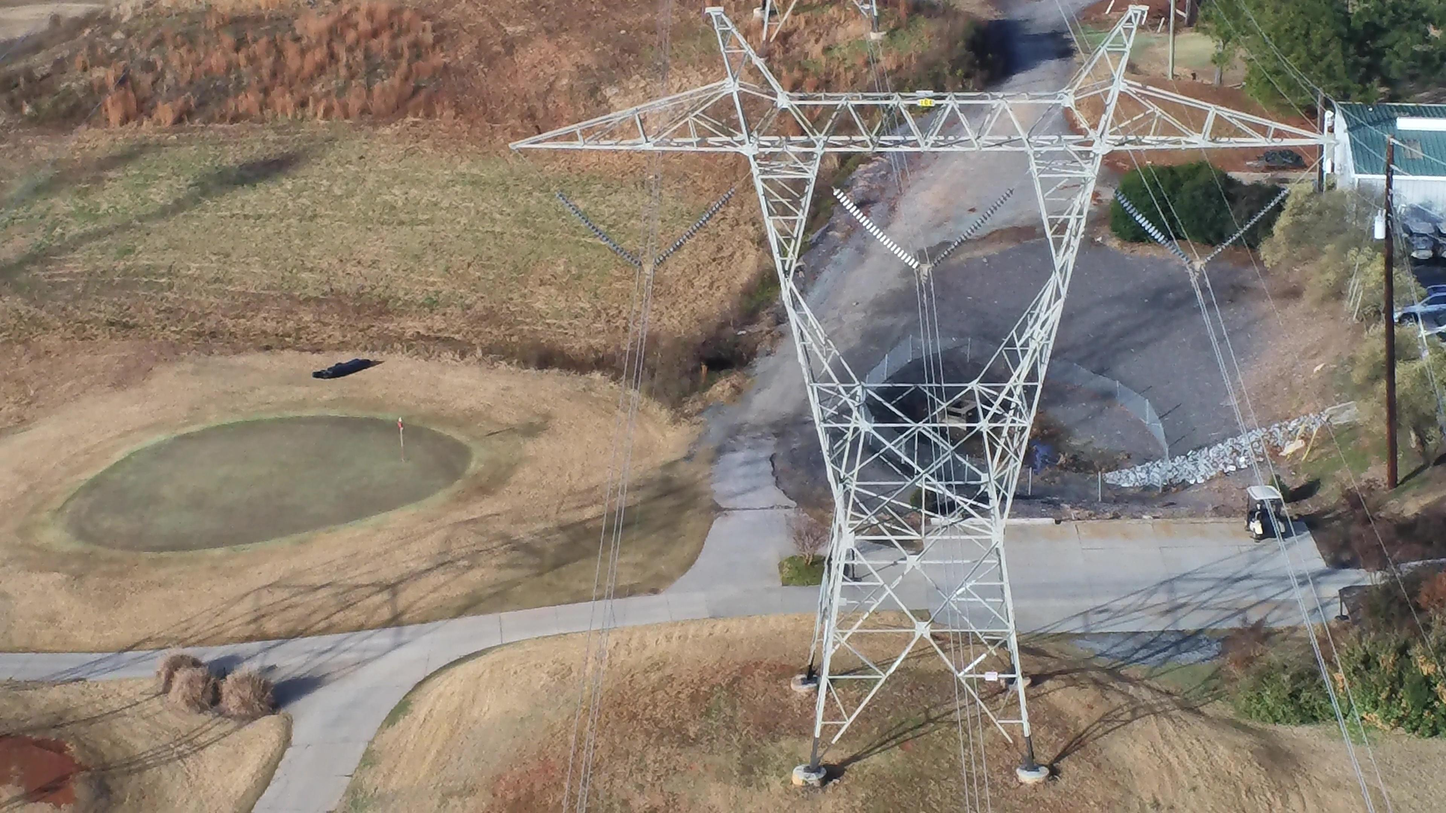power_tower: (502, 0, 1345, 773), (762, 0, 879, 44)
